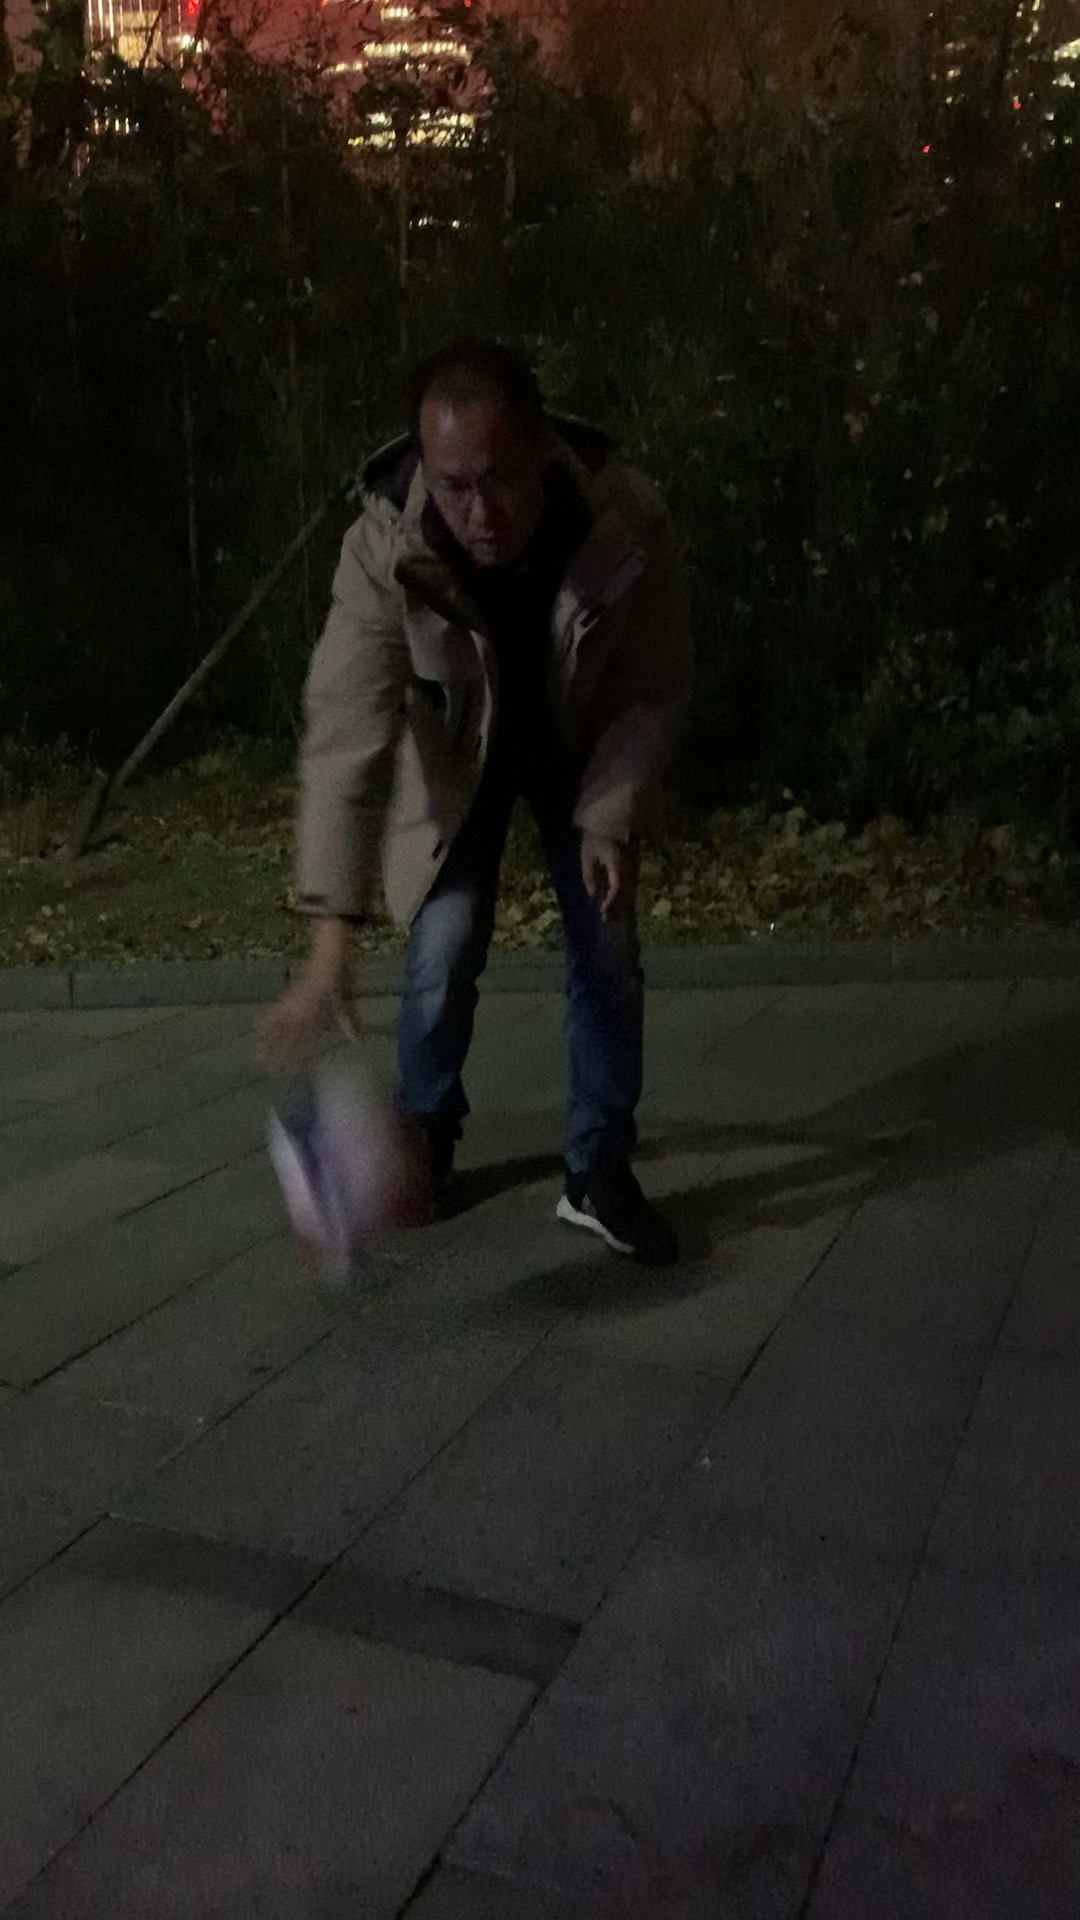ball: (260, 1055, 438, 1244)
